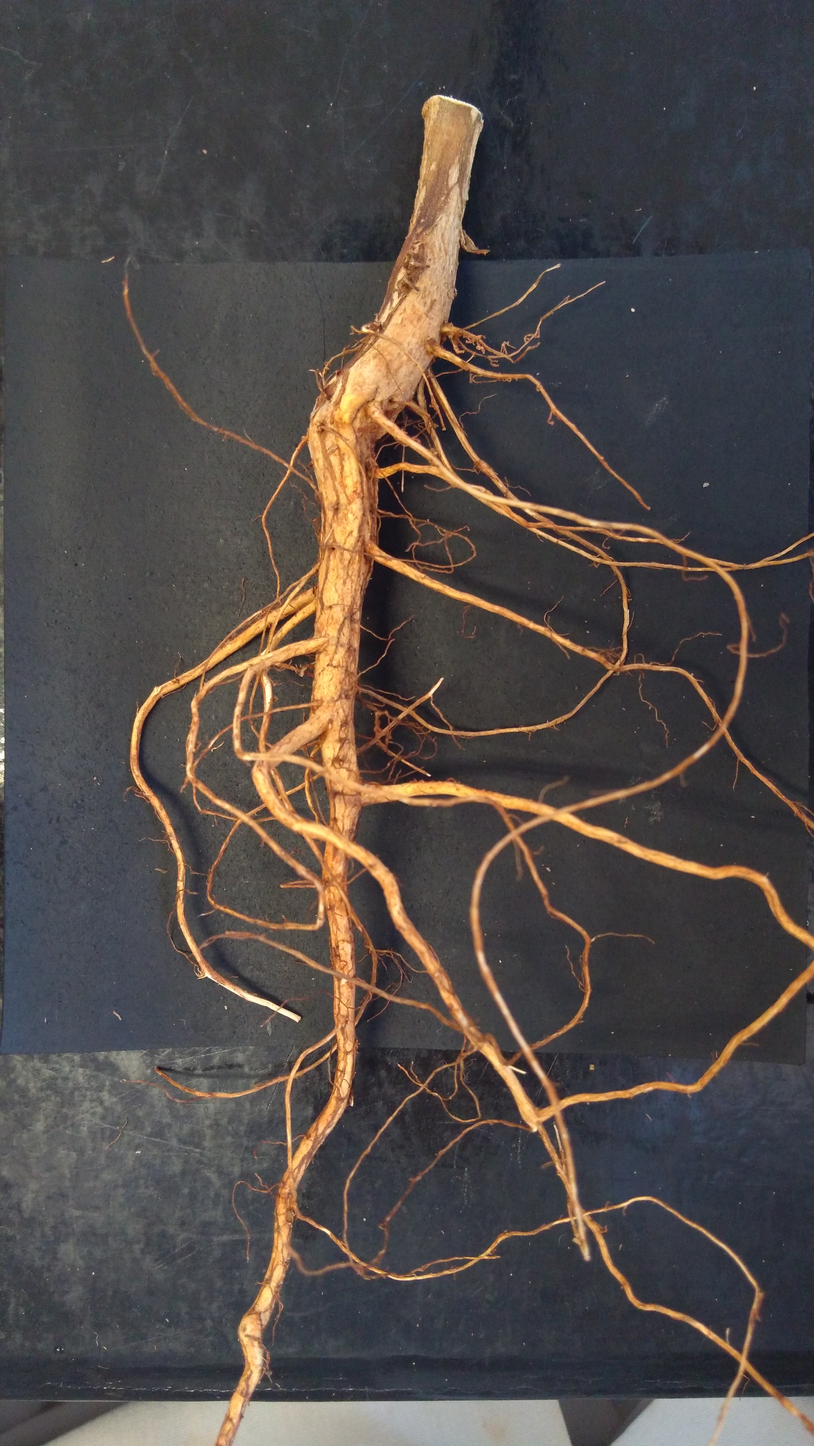nodule: (298, 666, 308, 678), (444, 330, 455, 338), (272, 694, 278, 703), (475, 345, 482, 351), (480, 346, 484, 350)
